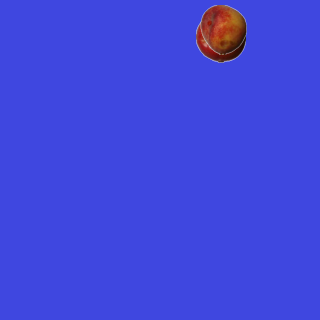Apple Braeburn: (195, 12, 245, 62)
Peach: (198, 4, 248, 54)
